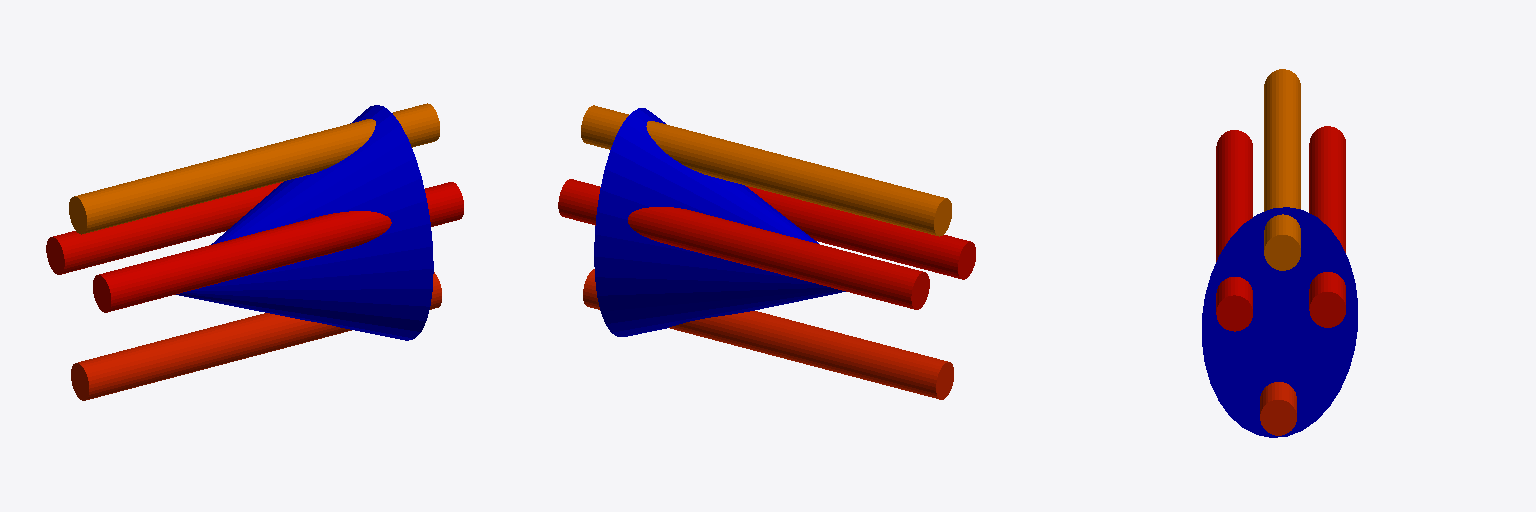
Rendered from boss4.obj.
3 views of the same model, side by side, from view 1: azimuth 30°, elevation 25°; view 2: azimuth 150°, elevation 25°; view 3: azimuth 270°, elevation 25° (orthographic).
Visible parts, largest first — view 1: Cone, Cylinder_gun1, Cylinder.002_gun3, Cylinder.003_gun4, Cylinder.001_gun2; view 2: Cone, Cylinder_gun1, Cylinder.001_gun2, Cylinder.003_gun4, Cylinder.002_gun3; view 3: Cone, Cylinder_gun1, Cylinder.002_gun3, Cylinder.001_gun2, Cylinder.003_gun4.
Part boxes in pixels (x1,y1,x2,y2): Cone: (176, 105, 433, 340); Cylinder_gun1: (69, 103, 439, 234); Cylinder.002_gun3: (93, 182, 463, 312); Cylinder.003_gun4: (71, 272, 441, 400); Cylinder.001_gun2: (46, 182, 282, 274); Cone: (594, 108, 845, 336); Cylinder_gun1: (581, 105, 951, 236); Cylinder.001_gun2: (558, 179, 929, 309); Cylinder.003_gun4: (583, 269, 953, 399); Cylinder.002_gun3: (746, 186, 975, 279); Cone: (1202, 207, 1357, 437); Cylinder_gun1: (1264, 69, 1300, 270); Cylinder.002_gun3: (1216, 130, 1252, 331); Cylinder.001_gun2: (1309, 126, 1345, 327); Cylinder.003_gun4: (1260, 382, 1296, 435).
Bounding box in the file's own units: 5.85 × 3.6 × 2.24.